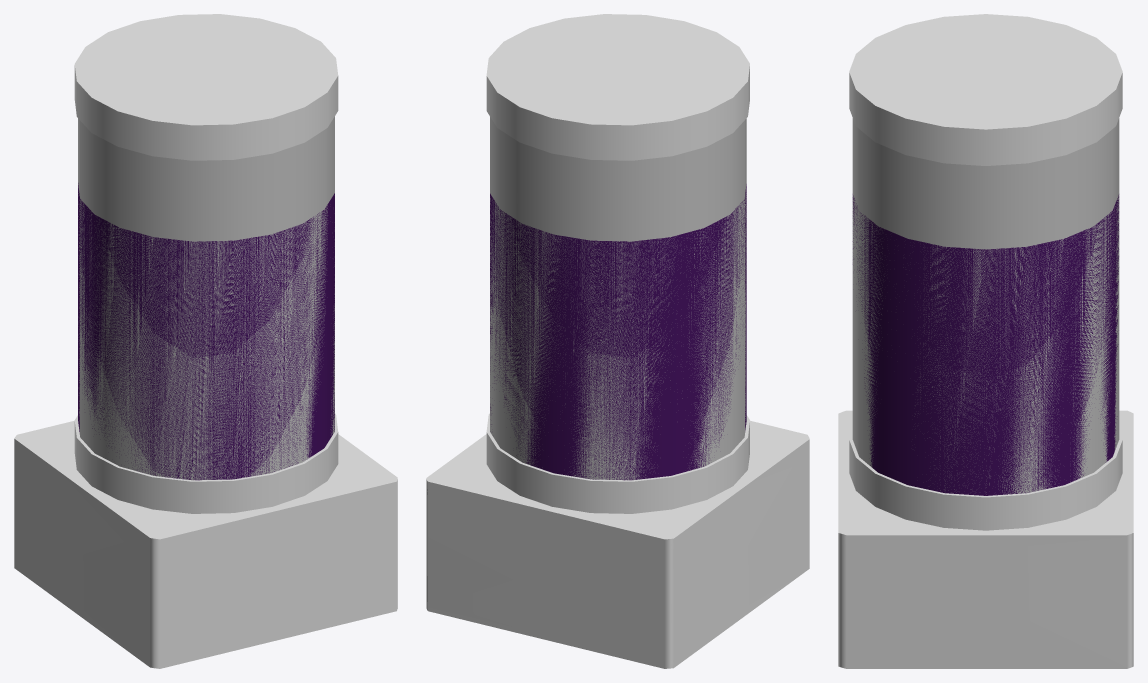
The model's file is tank_WithLiquid_WithBase.fbx.
3 views of the same model, side by side, from view 1: azimuth 30°, elevation 25°; view 2: azimuth 150°, elevation 25°; view 3: azimuth 270°, elevation 25° (orthographic). The views are drawn at different scales.
Visible parts, largest first — view 1: tankMid, TankBottom, innerTankMesh, tankLid, tankBase; view 2: TankBottom, tankMid, innerTankMesh, tankLid, tankBase; view 3: innerTankMesh, tankMid, TankBottom, tankLid, tankBase.
Boxes of the visible parts, x1=… form: tankMid: x1=78, y1=116, x2=334, y2=480; TankBottom: x1=14, y1=420, x2=397, y2=668; innerTankMesh: x1=78, y1=183, x2=334, y2=480; tankLid: x1=74, y1=14, x2=338, y2=160; tankBase: x1=74, y1=413, x2=338, y2=513; TankBottom: x1=426, y1=420, x2=809, y2=668; tankMid: x1=490, y1=117, x2=746, y2=480; innerTankMesh: x1=490, y1=184, x2=746, y2=480; tankLid: x1=486, y1=14, x2=749, y2=160; tankBase: x1=486, y1=413, x2=749, y2=513; innerTankMesh: x1=852, y1=194, x2=1119, y2=495; tankMid: x1=852, y1=118, x2=1119, y2=494; TankBottom: x1=838, y1=410, x2=1133, y2=668; tankLid: x1=849, y1=14, x2=1122, y2=165; tankBase: x1=849, y1=431, x2=1122, y2=530.
Bounding box in the file's own units: 1 × 2 × 1.
